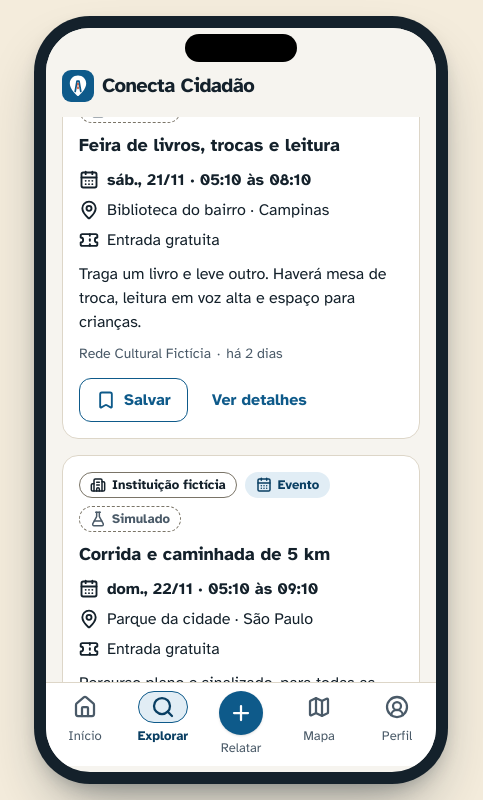
Test: Estado como morador › salva um evento e o encontra em "Salvos"
(page scrolled)
Click the button "Salvar": (133, 400) [79,378,188,422]
(page scrolled)
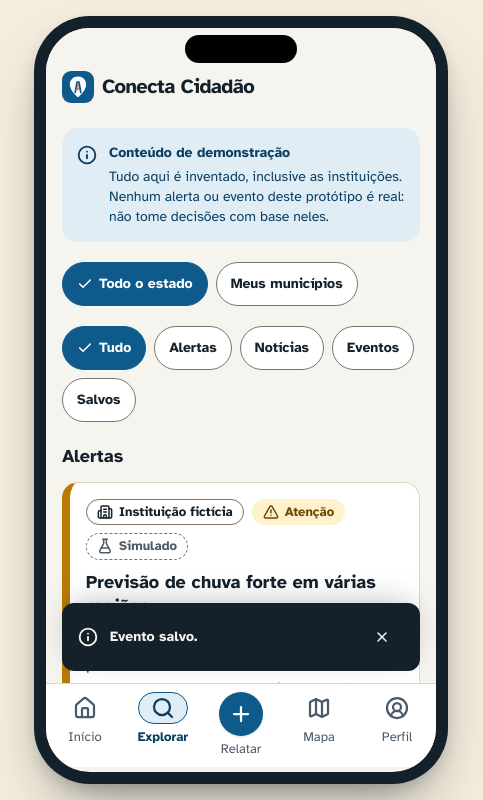
Check: the text "Evento salvo." is shown, box [110,628,197,645]
Click the button "Salvos": (99, 400) [62,378,136,422]
(page scrolled)
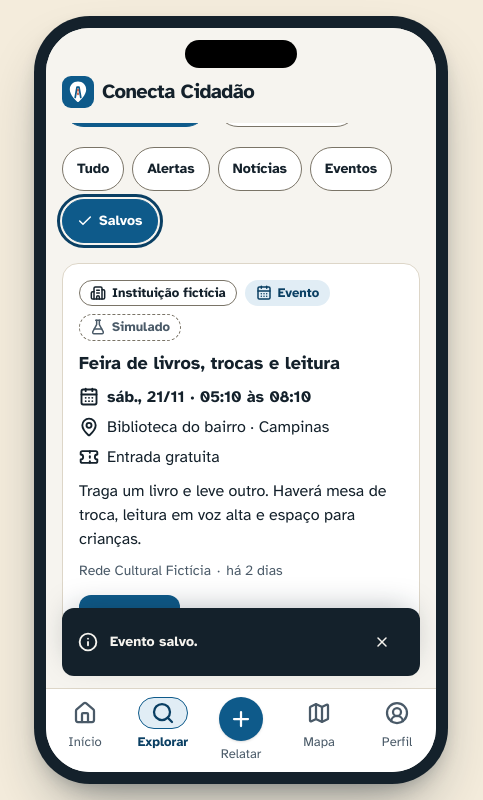
Check: the heading "Corrida e caminhada de 5 km" is not shown
Check: the element "Feira de livros, trocas e leitura" is shown, box [62,263,420,656]
